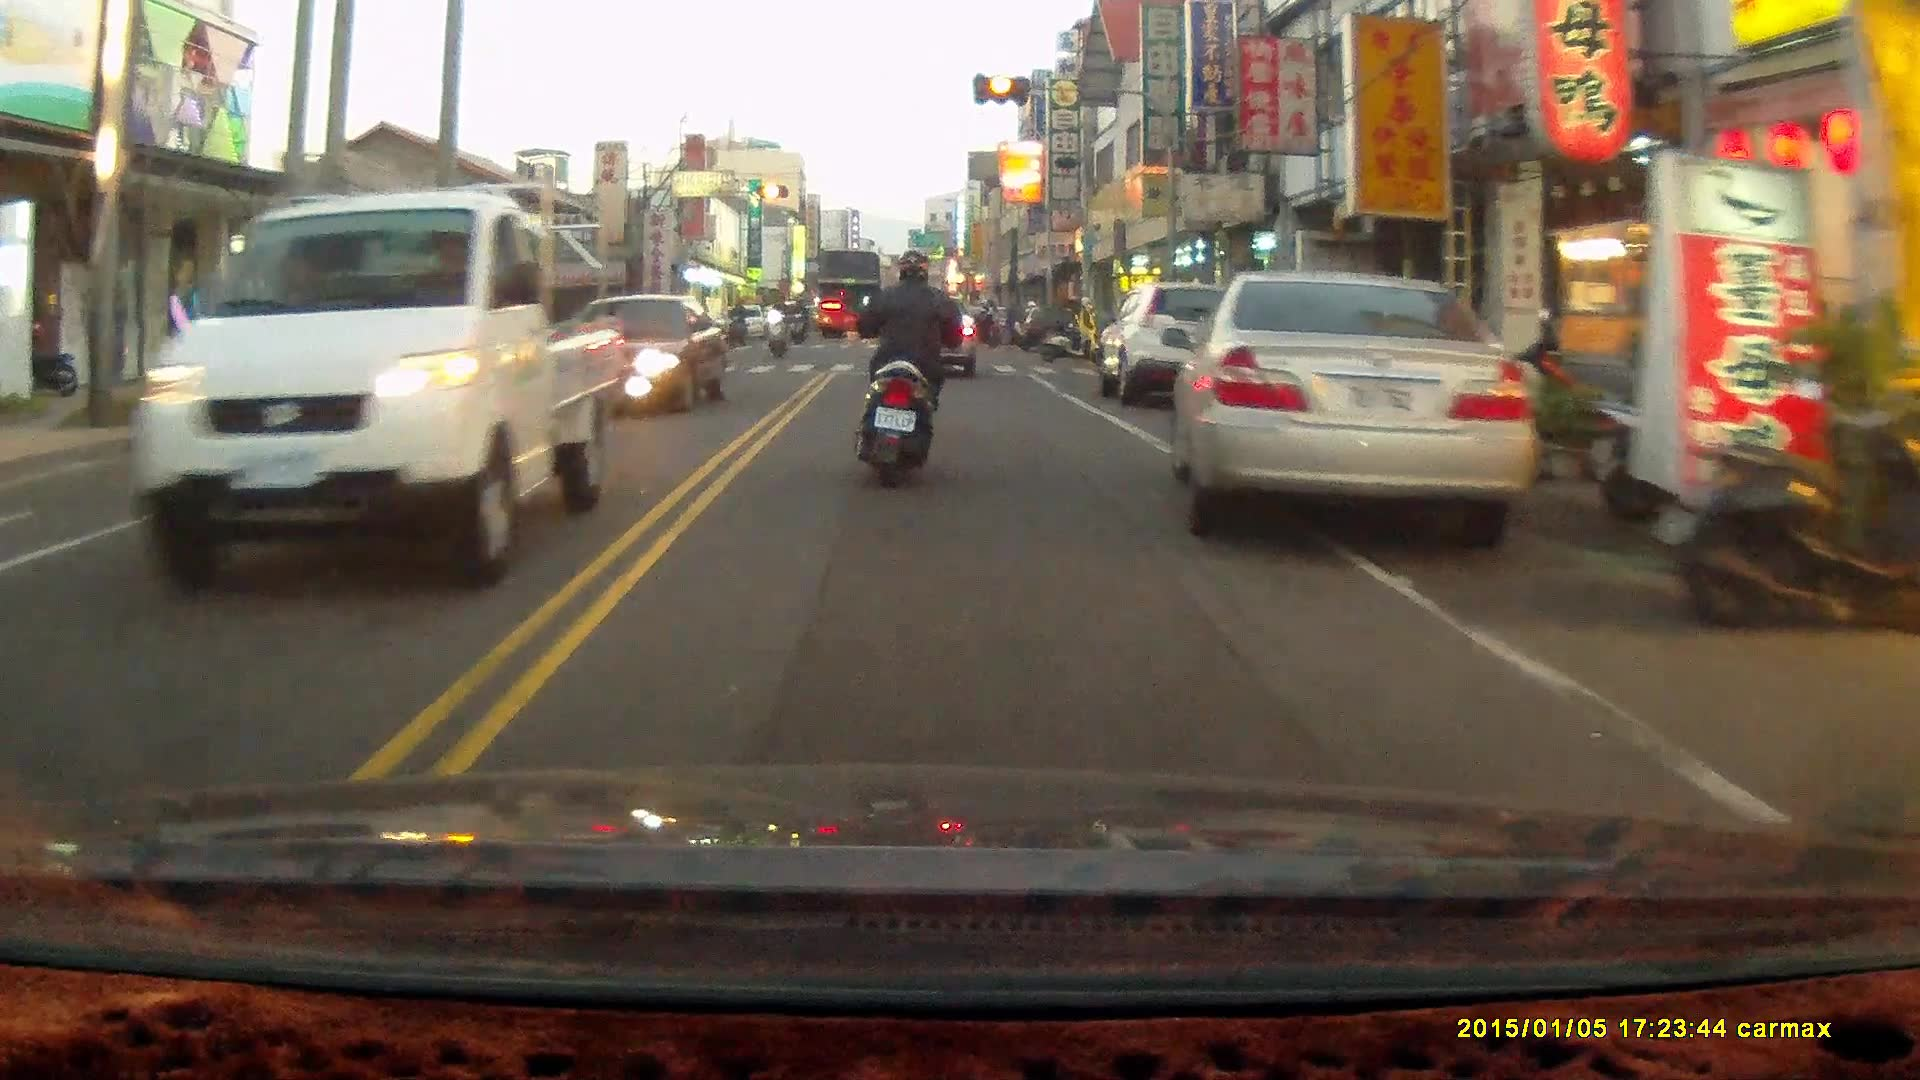pedestrian: (1075, 294, 1098, 367)
rider: (854, 249, 977, 491), (763, 291, 790, 358), (727, 296, 750, 349), (790, 293, 810, 347)
vehicle: (114, 186, 622, 594), (1168, 272, 1516, 560), (1098, 281, 1264, 408), (571, 293, 732, 418), (814, 249, 890, 336)
